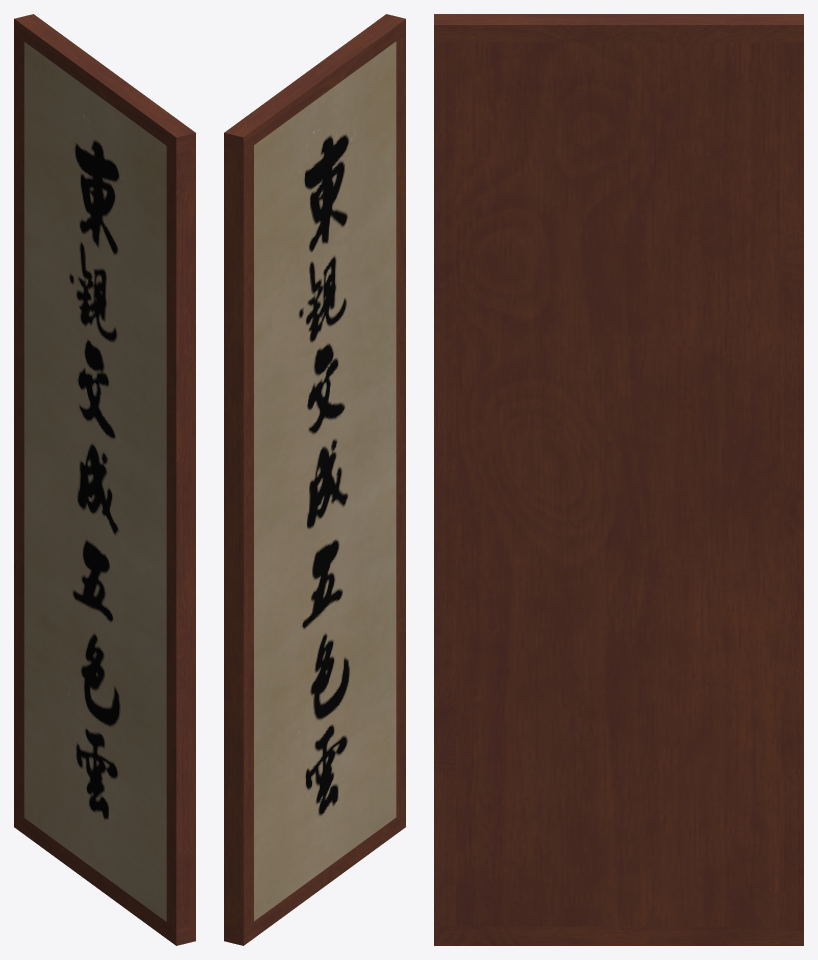
Rendered from SM_StelaPaper01M.fbx.
3 views of the same model, side by side, from view 1: azimuth 30°, elevation 25°; view 2: azimuth 150°, elevation 25°; view 3: azimuth 270°, elevation 25° (orthographic). The views are drawn at different scales.
Visible parts, largest first — view 1: SM_StelaPaper01M; view 2: SM_StelaPaper01M; view 3: SM_StelaPaper01M.
Part boxes in pixels (box(x1,y1,x2,y2)): SM_StelaPaper01M: box(14, 14, 195, 945); SM_StelaPaper01M: box(224, 14, 405, 945); SM_StelaPaper01M: box(434, 14, 803, 945).
Size of the model in its own units: 3.53 by 50.87 by 140.
